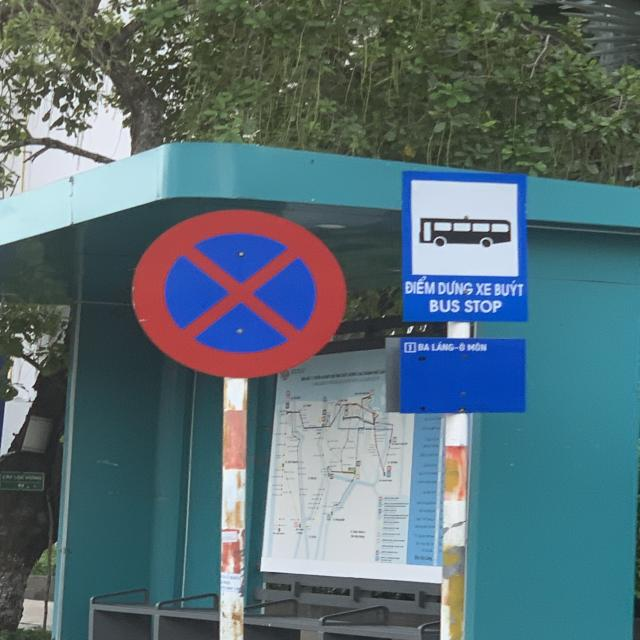Cam_Dung_Va_Dau_Xe: (133, 210, 347, 376)
